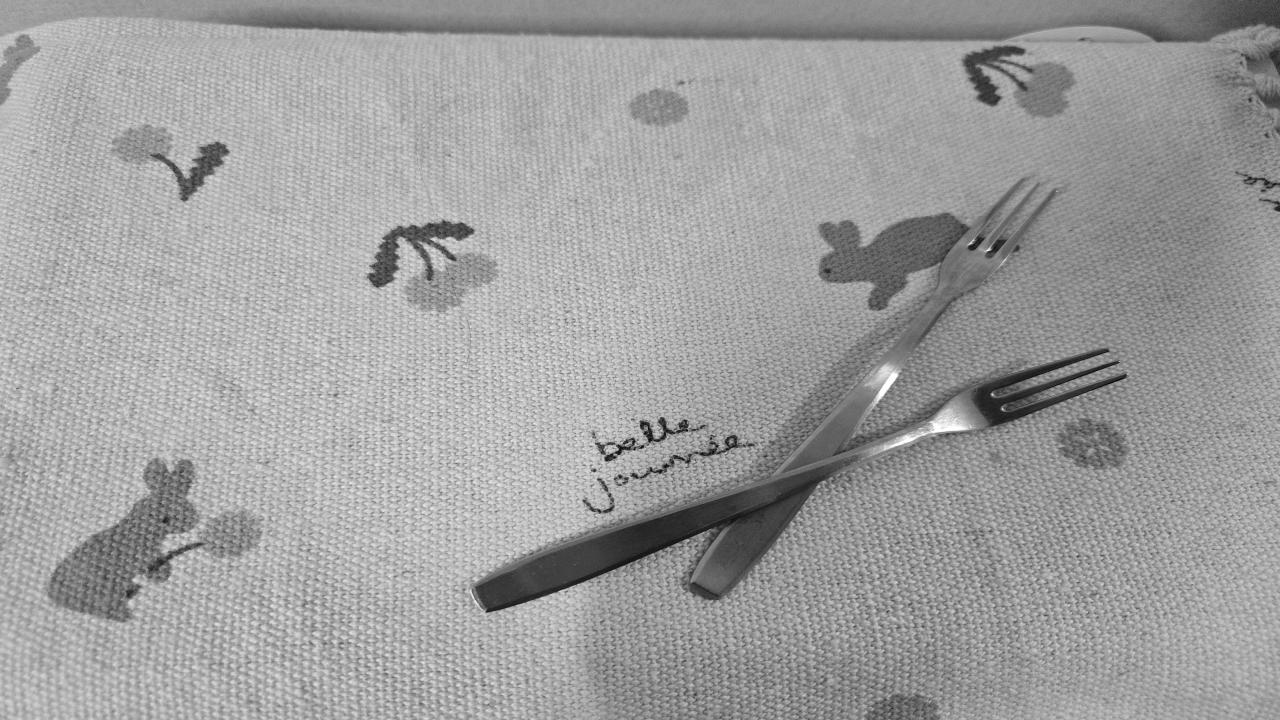fork: (468, 346, 1131, 612), (690, 178, 1064, 600)
